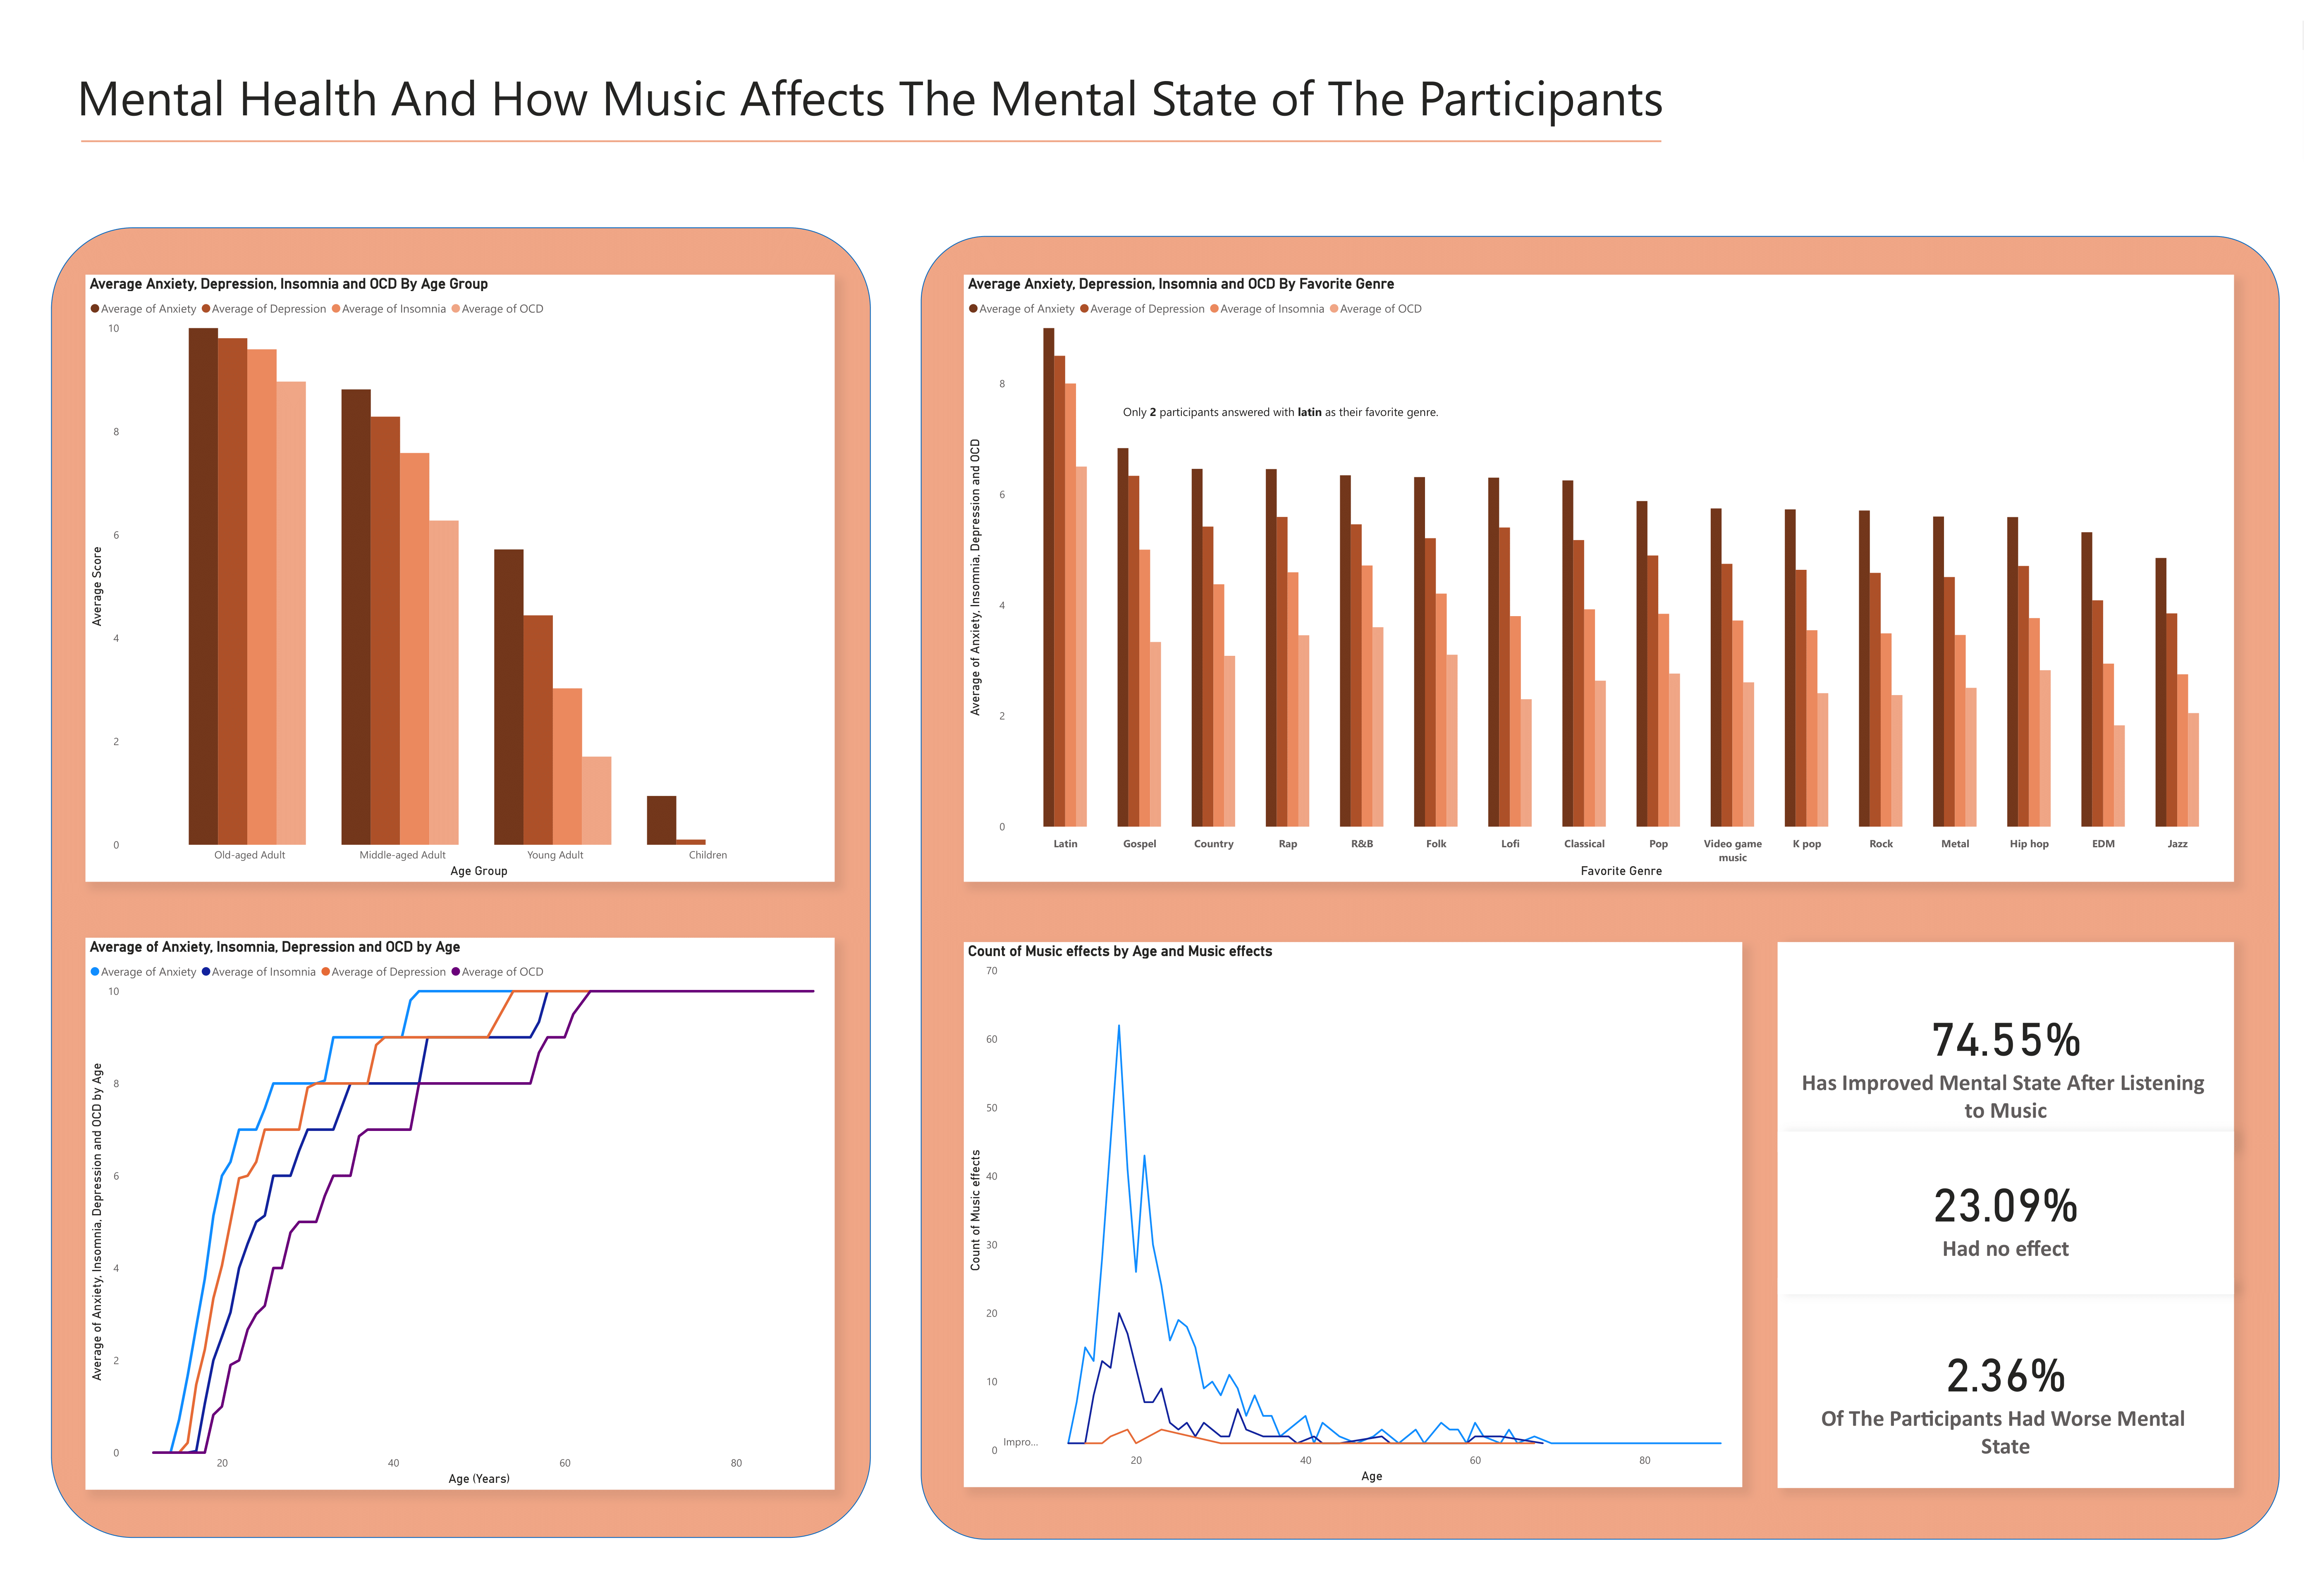

What the dashboard file says about the page in this screenshot:
{"tool":"powerbi","page":{"name":"Page 2","canvas":[2650,1800],"ordinal":1},"visuals":[{"type":"shape","box":[33.3,240.7,951.9,1522.2],"z":0},{"type":"shape","box":[1044,248,1578,1514],"z":1000},{"type":"clusteredColumnChart","title":"Average Anxiety, Depression, Insomnia and OCD By Age Group","fields":{"Category":["Cleaned_Music_and_Therapy_Survey.Age Group"],"Y":["Cleaned_Music_and_Therapy_Survey.Anxiety","Cleaned_Music_and_Therapy_Survey.Depression","Cleaned_Music_and_Therapy_Survey.Insomnia","Cleaned_Music_and_Therapy_Survey.OCD"]},"box":[75,295,870,705],"z":2000},{"type":"clusteredColumnChart","title":"Average Anxiety, Depression, Insomnia and OCD By Favorite Genre ","fields":{"Category":["Cleaned_Music_and_Therapy_Survey.Fav genre"],"Y":["Cleaned_Music_and_Therapy_Survey.Anxiety","Cleaned_Music_and_Therapy_Survey.Depression","Cleaned_Music_and_Therapy_Survey.Insomnia","Cleaned_Music_and_Therapy_Survey.OCD"]},"box":[1095,295,1475,705],"z":3000},{"type":"lineChart","fields":{"Category":["Cleaned_Music_and_Therapy_Survey.Age"],"Y":["Cleaned_Music_and_Therapy_Survey.Music effects"],"Series":["Cleaned_Music_and_Therapy_Survey.Music effects"]},"box":[1092.6,1070.4,903.7,633.3],"z":4000},{"type":"card","fields":{"Values":["Cleaned_Music_and_Therapy_Survey.Measure"]},"box":[2040.7,1070.4,529.6,244.4],"z":5000},{"type":"card","fields":{"Values":["Cleaned_Music_and_Therapy_Survey.Worsen %"]},"box":[2040.7,1459.3,529.6,244.4],"z":6000},{"type":"lineChart","title":"Average of Anxiety, Insomnia, Depression and OCD by Age","fields":{"Category":["Cleaned_Music_and_Therapy_Survey.Age"],"Y":["Cleaned_Music_and_Therapy_Survey.Anxiety","Cleaned_Music_and_Therapy_Survey.Insomnia","Cleaned_Music_and_Therapy_Survey.Depression","Cleaned_Music_and_Therapy_Survey.OCD"]},"box":[74.1,1063,870.4,640.7],"z":7000},{"type":"card","fields":{"Values":["Cleaned_Music_and_Therapy_Survey.No Effect %"]},"box":[2040.7,1288.9,529.6,188.9],"z":8000},{"type":"textbox","box":[1272.5,440,390,50],"z":9000},{"type":"textbox","box":[60,45,1940,100],"z":10000},{"type":"shape","box":[70,65,1835,150],"z":11000}]}

Visuals, with their boxes on the page's 2650x1800 design canvas (x1, y1, x2, y2). These are canvas units, not pixel positions in the 2324x1592 screenshot, which may show the page scaled, cropped or inside an application window:
shape: 33/241/985/1763
shape: 1044/248/2622/1762
"Average Anxiety, Depression, Insomnia and OCD By Age Group" clusteredColumnChart: 75/295/945/1000
"Average Anxiety, Depression, Insomnia and OCD By Favorite Genre " clusteredColumnChart: 1095/295/2570/1000
lineChart - Cleaned_Music_and_Therapy_Survey.Age x Cleaned_Music_and_Therapy_Survey.Music effects: 1093/1070/1996/1704
card - Cleaned_Music_and_Therapy_Survey.Measure: 2041/1070/2570/1315
card - Cleaned_Music_and_Therapy_Survey.Worsen %: 2041/1459/2570/1704
"Average of Anxiety, Insomnia, Depression and OCD by Age" lineChart: 74/1063/944/1704
card - Cleaned_Music_and_Therapy_Survey.No Effect %: 2041/1289/2570/1478
textbox: 1272/440/1662/490
textbox: 60/45/2000/145
shape: 70/65/1905/215
